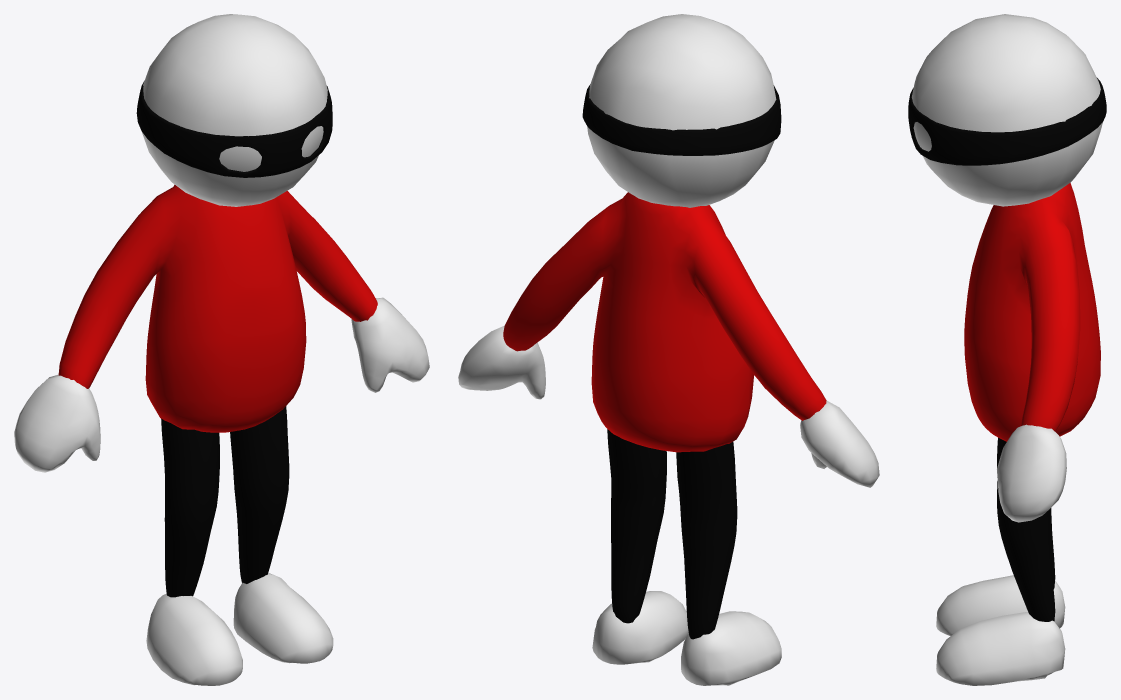
The model's file is enemy.fbx.
3 renders of one model, left to right at view 1: azimuth 30°, elevation 25°; view 2: azimuth 150°, elevation 25°; view 3: azimuth 270°, elevation 25°, orthographic.
Parts seen in each view (by area): view 1: Enemy_white_lp, Enemy_red_lp, Enemy_black_lp; view 2: Enemy_red_lp, Enemy_white_lp, Enemy_black_lp; view 3: Enemy_white_lp, Enemy_red_lp, Enemy_black_lp.
Part boxes in pixels (x1,y1,x2,y2): Enemy_white_lp: (14, 14, 429, 685); Enemy_red_lp: (58, 184, 377, 432); Enemy_black_lp: (136, 81, 332, 597); Enemy_red_lp: (503, 192, 826, 452); Enemy_white_lp: (458, 14, 879, 685); Enemy_black_lp: (582, 84, 781, 639); Enemy_white_lp: (911, 14, 1102, 685); Enemy_red_lp: (964, 183, 1100, 441); Enemy_black_lp: (908, 78, 1106, 621).
Bounding box in the file's own units: 114 × 168 × 48.23.
